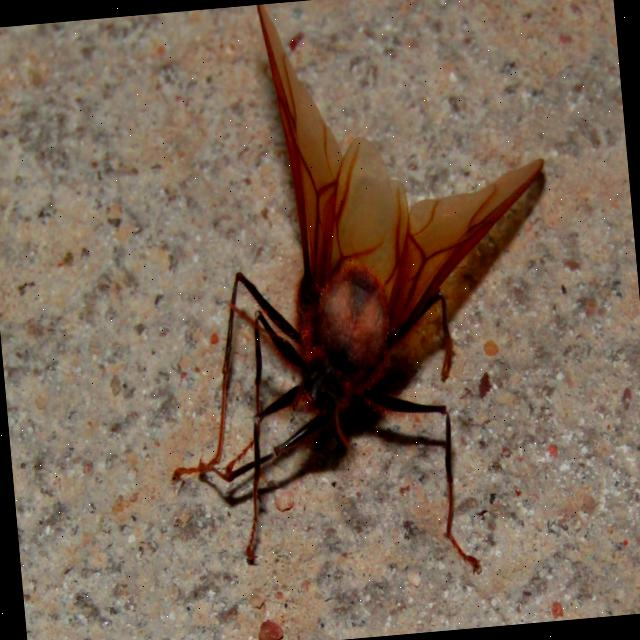Alive-Male-Alate: (133, 0, 578, 575)
